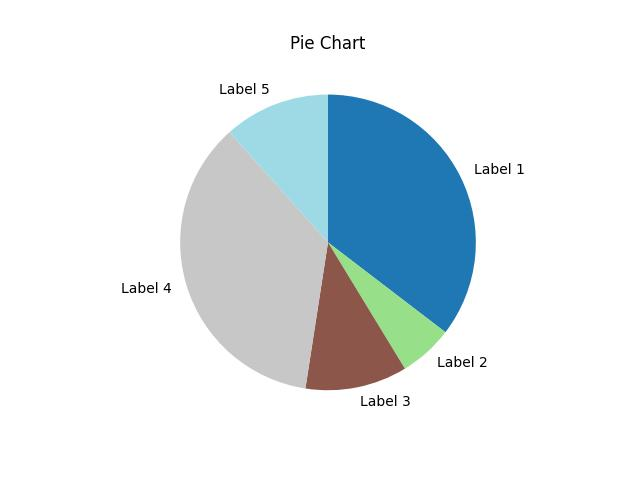sector: (179, 133, 328, 389), (327, 94, 476, 332), (303, 243, 405, 391), (230, 92, 328, 245), (327, 242, 445, 367)
